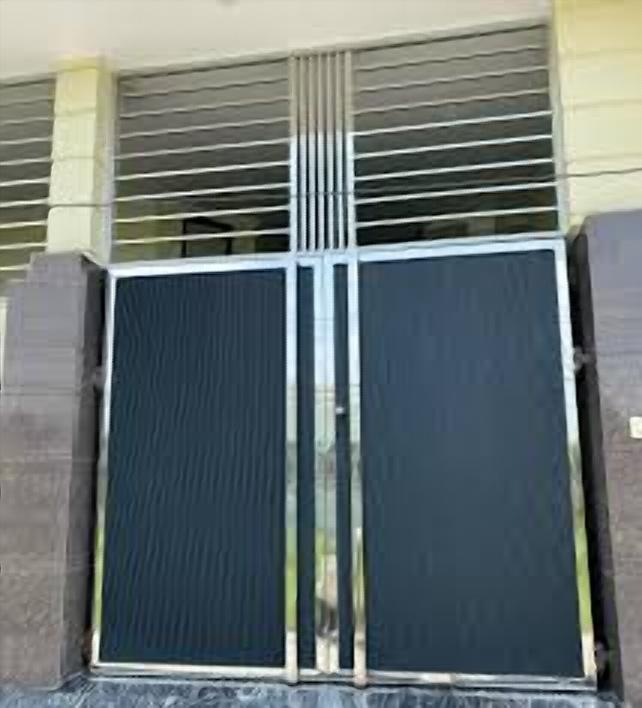Gate: (87, 235, 601, 696)
Window-with-grill: (109, 30, 558, 266), (0, 75, 53, 297)
